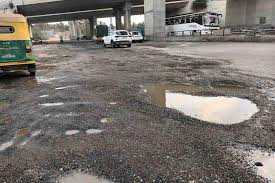Pothole: (130, 78, 262, 127)
